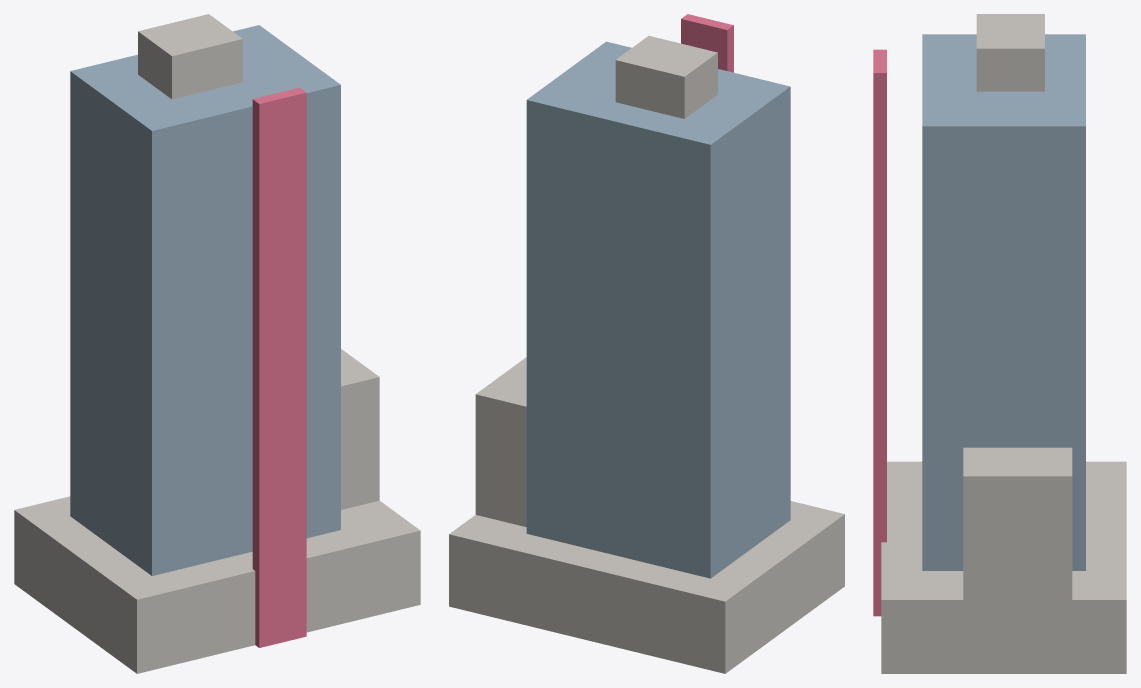
File: placeholder-building.glb
The picture shows the model from 3 angles, left to right: view 1: azimuth 30°, elevation 25°; view 2: azimuth 150°, elevation 25°; view 3: azimuth 270°, elevation 25°; orthographic projection. The views are drawn at different scales.
Visible parts, largest first — view 1: Tower, Podium, FrontPilaster, RoofPlant, EastWing; view 2: Tower, Podium, EastWing, RoofPlant, FrontPilaster; view 3: Tower, Podium, EastWing, FrontPilaster, RoofPlant.
Boxes of the visible parts, x1,y1,x2,y2 form: Tower: [70, 25, 340, 575]; Podium: [14, 496, 420, 673]; FrontPilaster: [252, 87, 306, 647]; RoofPlant: [138, 14, 242, 99]; EastWing: [341, 349, 379, 509]; Tower: [526, 41, 790, 578]; Podium: [449, 501, 844, 673]; EastWing: [475, 357, 526, 526]; RoofPlant: [615, 36, 717, 118]; FrontPilaster: [681, 14, 733, 72]; Tower: [922, 34, 1085, 570]; Podium: [881, 461, 1126, 673]; EastWing: [963, 447, 1072, 599]; FrontPilaster: [873, 49, 886, 616]; RoofPlant: [976, 14, 1044, 91].
Size of the model in its own units: 24 by 45.5 by 18.6.
